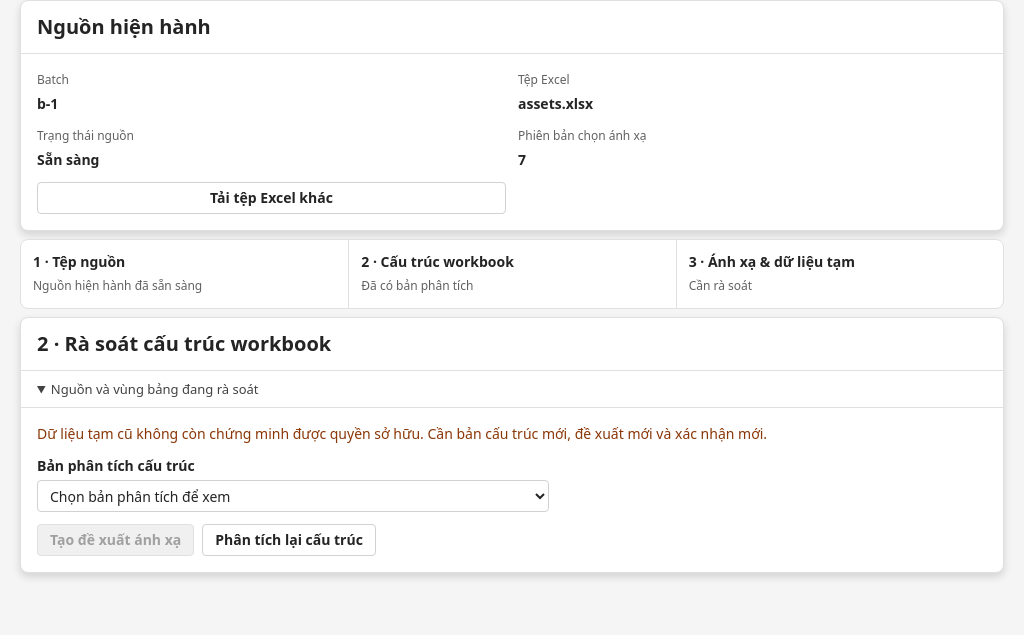
Scenario: PreliminaryIntakePage › allows a newly reviewed structure to recover an occupied old selection
The image size is (1024, 635).
Step 1. Select "Phiên bản 1 · 1 vùng bảng" in the dropdown labelled "Bản phân tích cấu trúc" → coordinates (293, 496), box [37,480,549,512]
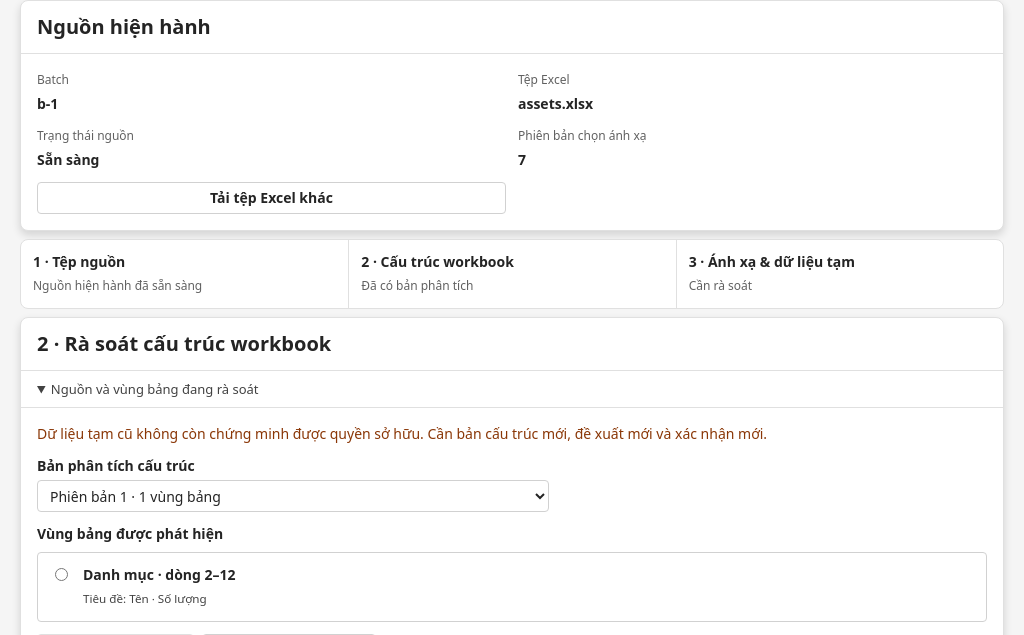
Step 2. Click the radio button labelled "Danh mục · dòng 2–12 Tiêu đề: Tên · Số lượng" → coordinates (62, 574), box [55,568,68,581]
(page scrolled)
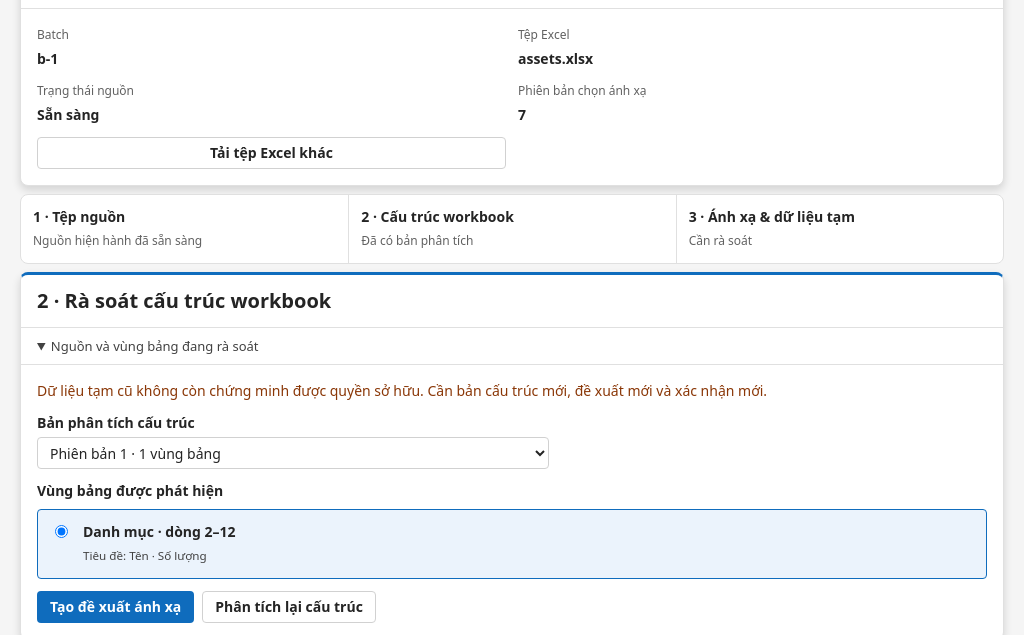
Step 3. Click the button "Tạo đề xuất ánh xạ" → coordinates (116, 607), box [37,591,194,623]
(page scrolled)
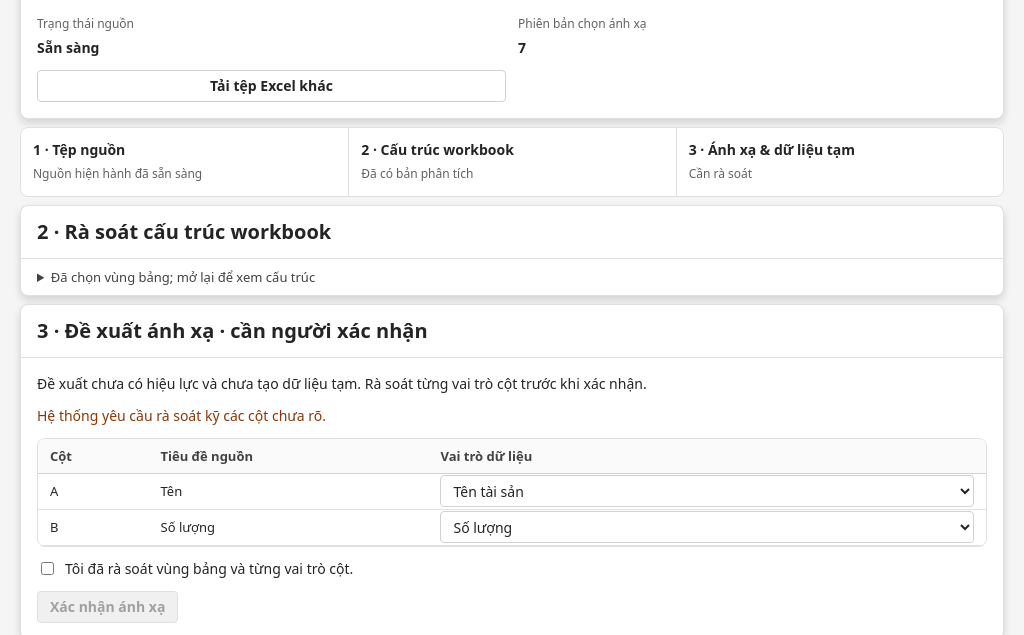
Expected: the button "Xác nhận ánh xạ" is shown, [37,590,178,622]
